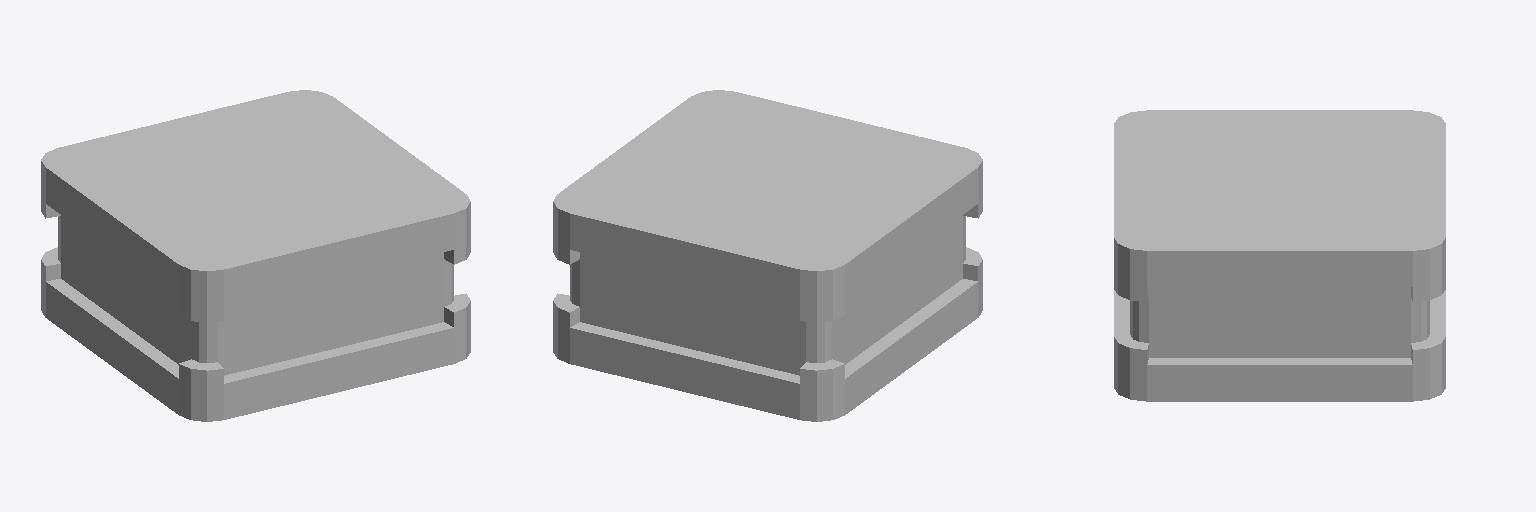
The model's file is blockMovingRed.obj.
3 renders of one model, left to right at view 1: azimuth 30°, elevation 25°; view 2: azimuth 150°, elevation 25°; view 3: azimuth 270°, elevation 25°, orthographic.
Parts seen in each view (by area): view 1: blockMovingRed; view 2: blockMovingRed; view 3: blockMovingRed.
Boxes of the visible parts, <box> form: blockMovingRed: <box>41,90,470,421</box>; blockMovingRed: <box>553,90,982,421</box>; blockMovingRed: <box>1114,110,1445,401</box>.
Bounding box in the file's own units: 1 × 0.5 × 1.